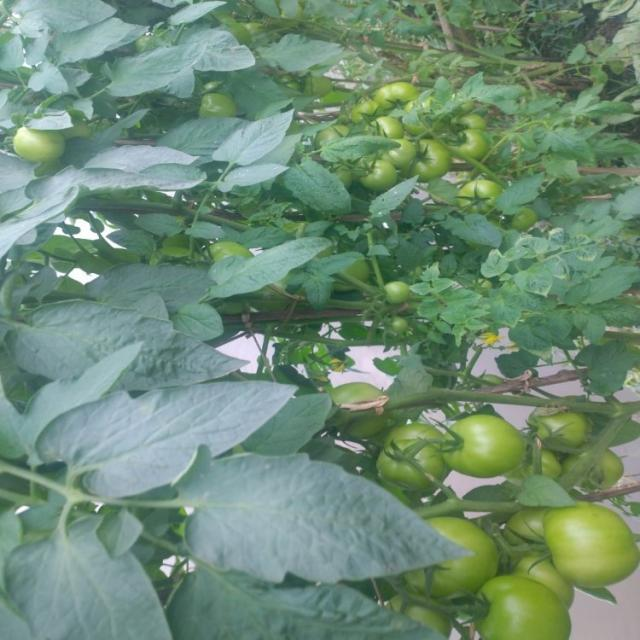tomato: (513, 495, 631, 601), (412, 510, 502, 596), (476, 568, 581, 640), (431, 399, 524, 480), (378, 423, 445, 492), (392, 582, 457, 640), (1, 112, 63, 172), (532, 404, 598, 447), (348, 148, 403, 194), (199, 72, 244, 127), (405, 133, 456, 181), (344, 101, 399, 145), (372, 77, 426, 116), (467, 173, 512, 213), (445, 123, 487, 163), (378, 132, 416, 169), (499, 201, 540, 234), (457, 102, 489, 140), (378, 277, 409, 310), (383, 312, 406, 336)
